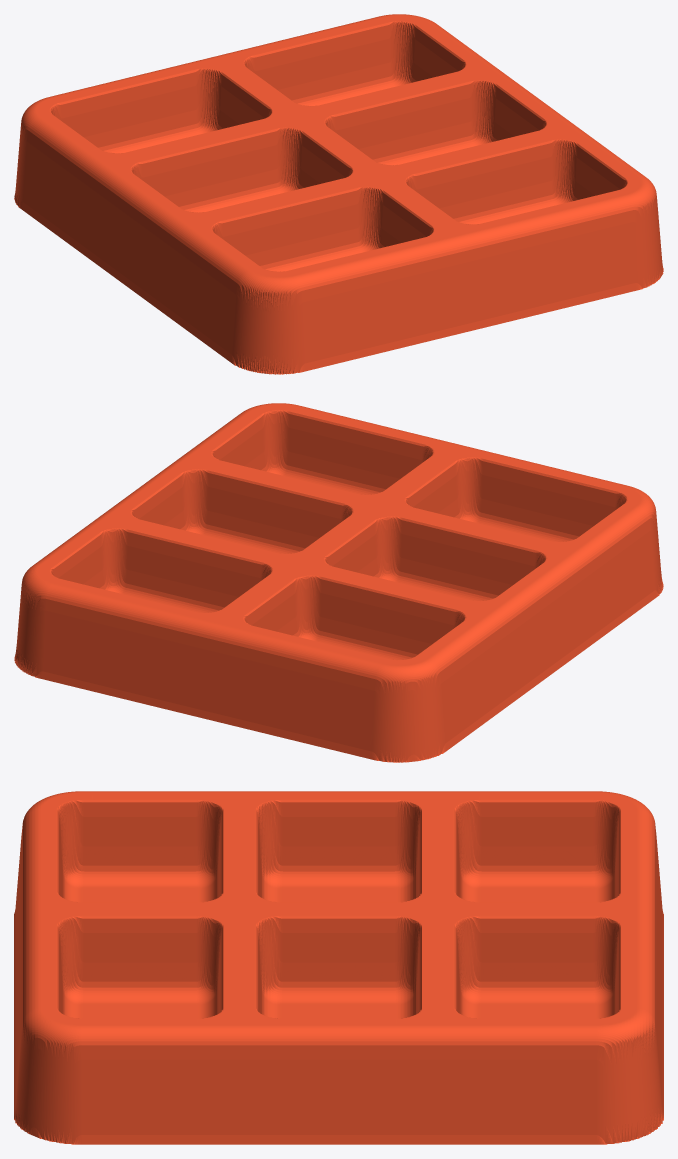
File: mold.glb
3 renders of one model, top to bottom at view 1: azimuth 30°, elevation 25°; view 2: azimuth 150°, elevation 25°; view 3: azimuth 270°, elevation 25°, orthographic. The views are drawn at different scales.
Visible parts, largest first — view 1: geometry_0; view 2: geometry_0; view 3: geometry_0.
Boxes of the visible parts, box(x1,y1,x2,y2) form: geometry_0: box(14, 14, 663, 374); geometry_0: box(14, 403, 663, 762); geometry_0: box(14, 791, 663, 1144).
Bounding box in the file's own units: 0.0808 × 0.0159 × 0.087.
